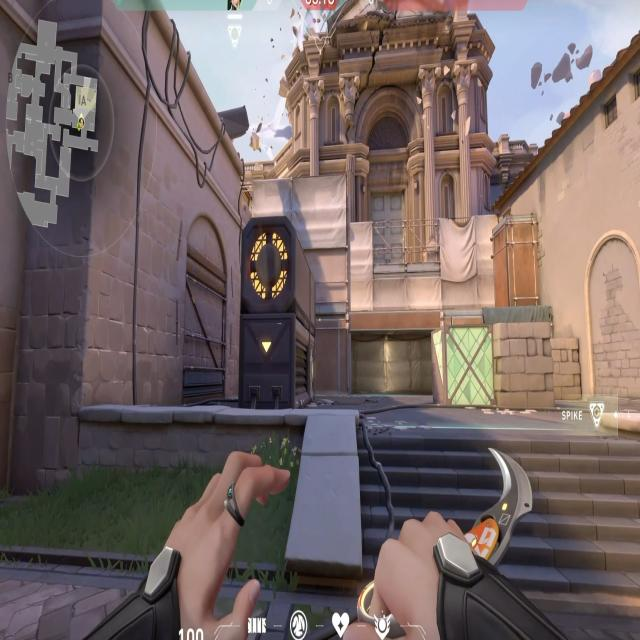A_Heaven_Box: (490, 211, 547, 307)
A_Heaven_Wall: (249, 173, 347, 315)
A_Hell: (345, 302, 450, 408)
A_Site_Box: (430, 316, 559, 417)
